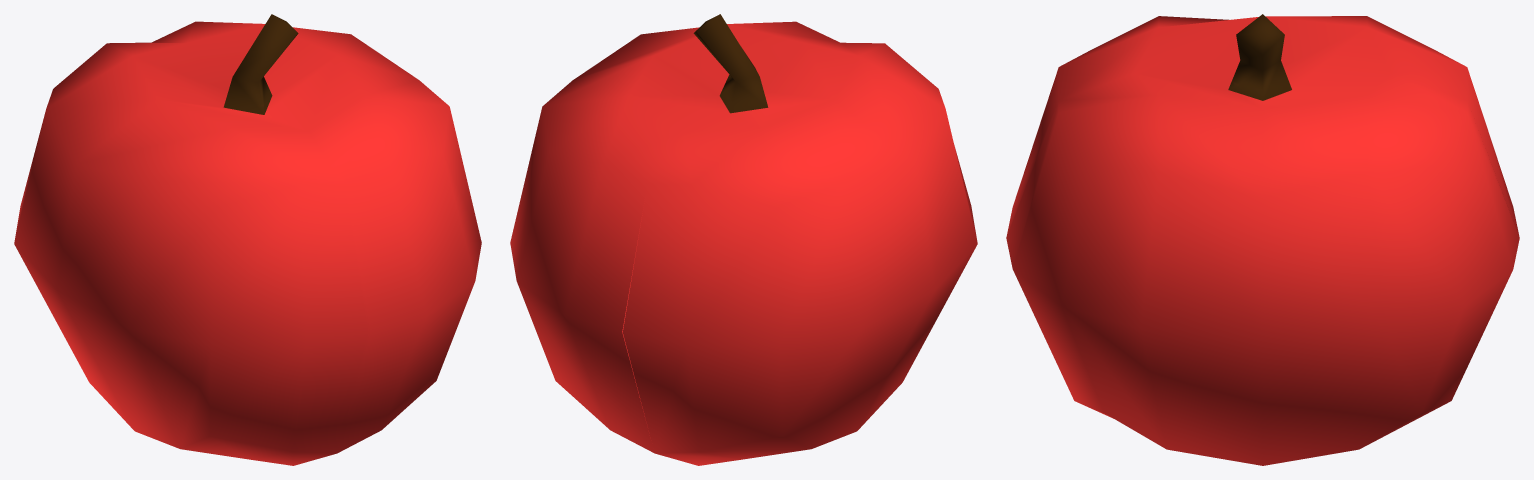
Rendered from Apple.fbx.
The picture shows the model from 3 angles, left to right: view 1: azimuth 30°, elevation 25°; view 2: azimuth 150°, elevation 25°; view 3: azimuth 270°, elevation 25°; orthographic projection. The views are drawn at different scales.
Visible parts, largest first — view 1: Apple; view 2: Apple; view 3: Apple.
Part boxes in pixels (x1=…): Apple: x1=14, y1=14, x2=481, y2=465; Apple: x1=510, y1=14, x2=977, y2=465; Apple: x1=1006, y1=14, x2=1519, y2=465.
Size of the model in its own units: 27.98 by 30.12 by 30.8.
